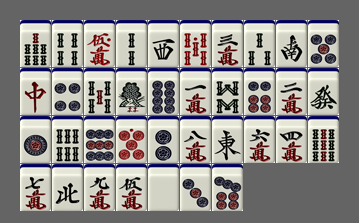0m: (84, 20, 115, 67)
0p: (116, 116, 147, 163)
0s: (180, 20, 211, 67)
1m: (180, 68, 211, 115)
1p: (20, 116, 51, 163)
1s: (116, 68, 147, 115)
1z: (212, 116, 243, 163)
2m: (276, 68, 307, 115)
2p: (148, 116, 179, 163)
2s: (116, 20, 147, 67)
2z: (276, 20, 307, 67)
3m: (212, 20, 243, 67)
3p: (180, 164, 211, 211)
3s: (244, 20, 275, 67)
3z: (148, 20, 179, 67)
4m: (276, 116, 307, 163)
4p: (52, 68, 83, 115)
4s: (52, 20, 83, 67)
4z: (52, 164, 83, 211)
5m: (116, 164, 147, 211)
5p: (308, 20, 339, 67)
5s: (84, 68, 115, 115)
5z: (148, 164, 179, 211)
6m: (244, 116, 275, 163)
6p: (244, 68, 275, 115)
6s: (52, 116, 83, 163)
6z: (308, 68, 339, 115)
7m: (20, 164, 51, 211)
7p: (212, 164, 243, 211)
7s: (20, 20, 51, 67)
7z: (20, 68, 51, 115)
8m: (180, 116, 211, 163)
8p: (148, 68, 179, 115)
8s: (212, 68, 243, 115)
9m: (84, 164, 115, 211)
9p: (84, 116, 115, 163)
9s: (308, 116, 339, 163)
